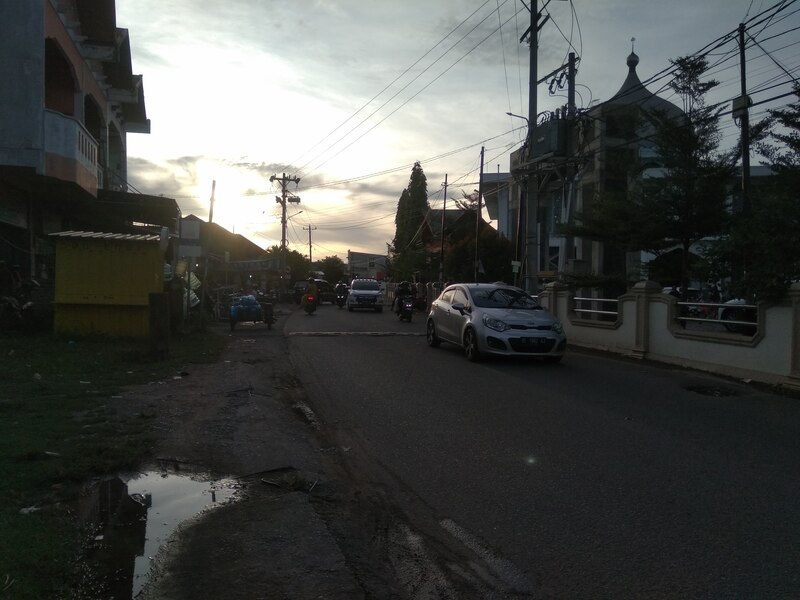becak barang: (231, 293, 283, 332)
car: (425, 278, 566, 368), (345, 276, 388, 316)
motorcycle: (300, 288, 320, 314), (397, 295, 416, 322)
